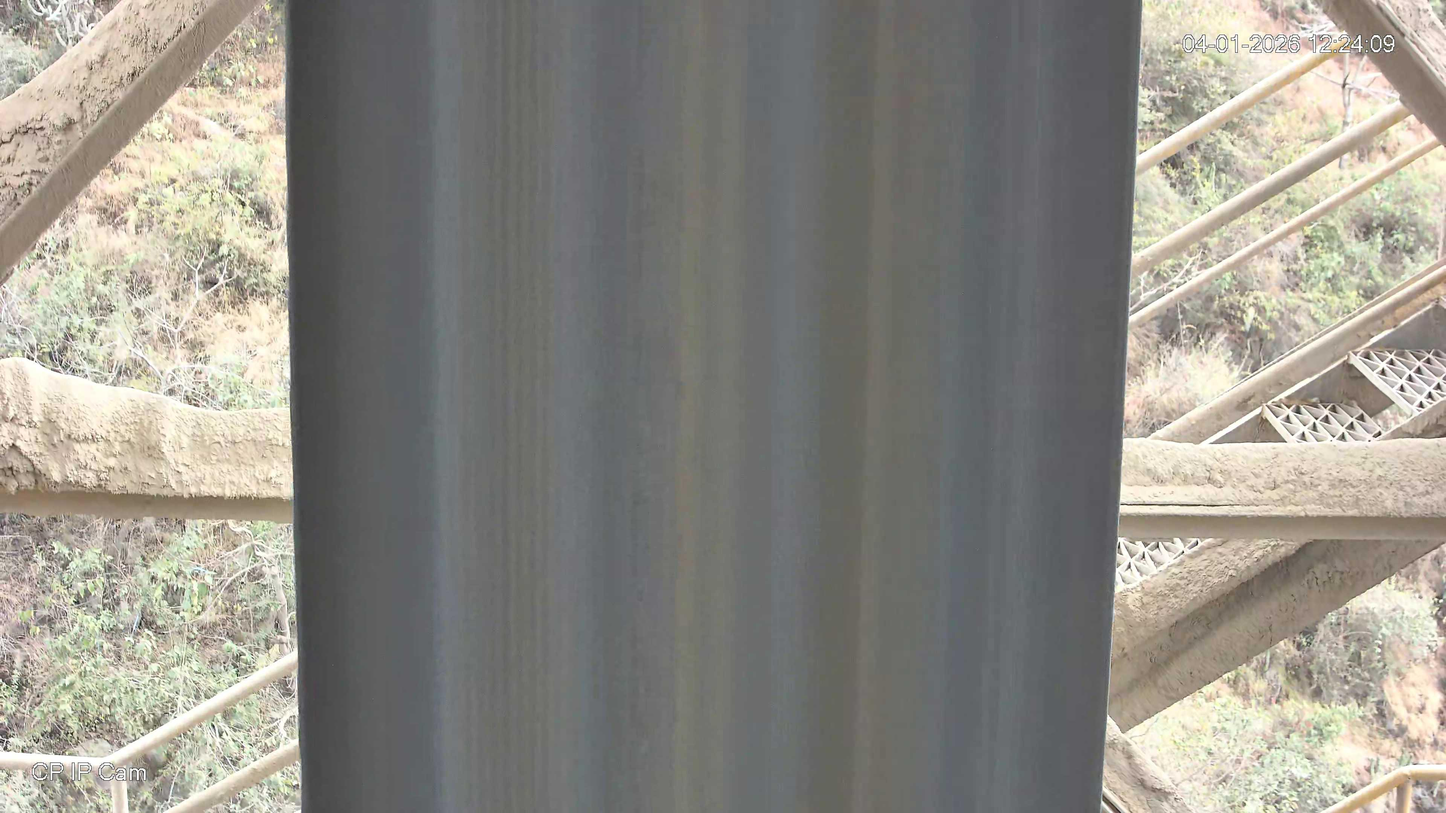belt_roi: (286, 0, 1142, 813)
